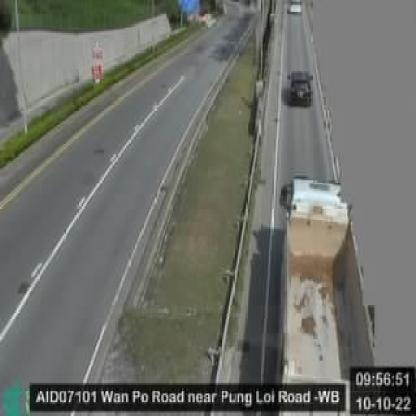Car: (290, 68, 313, 106), (289, 2, 302, 14)
Truck: (281, 171, 378, 416)
